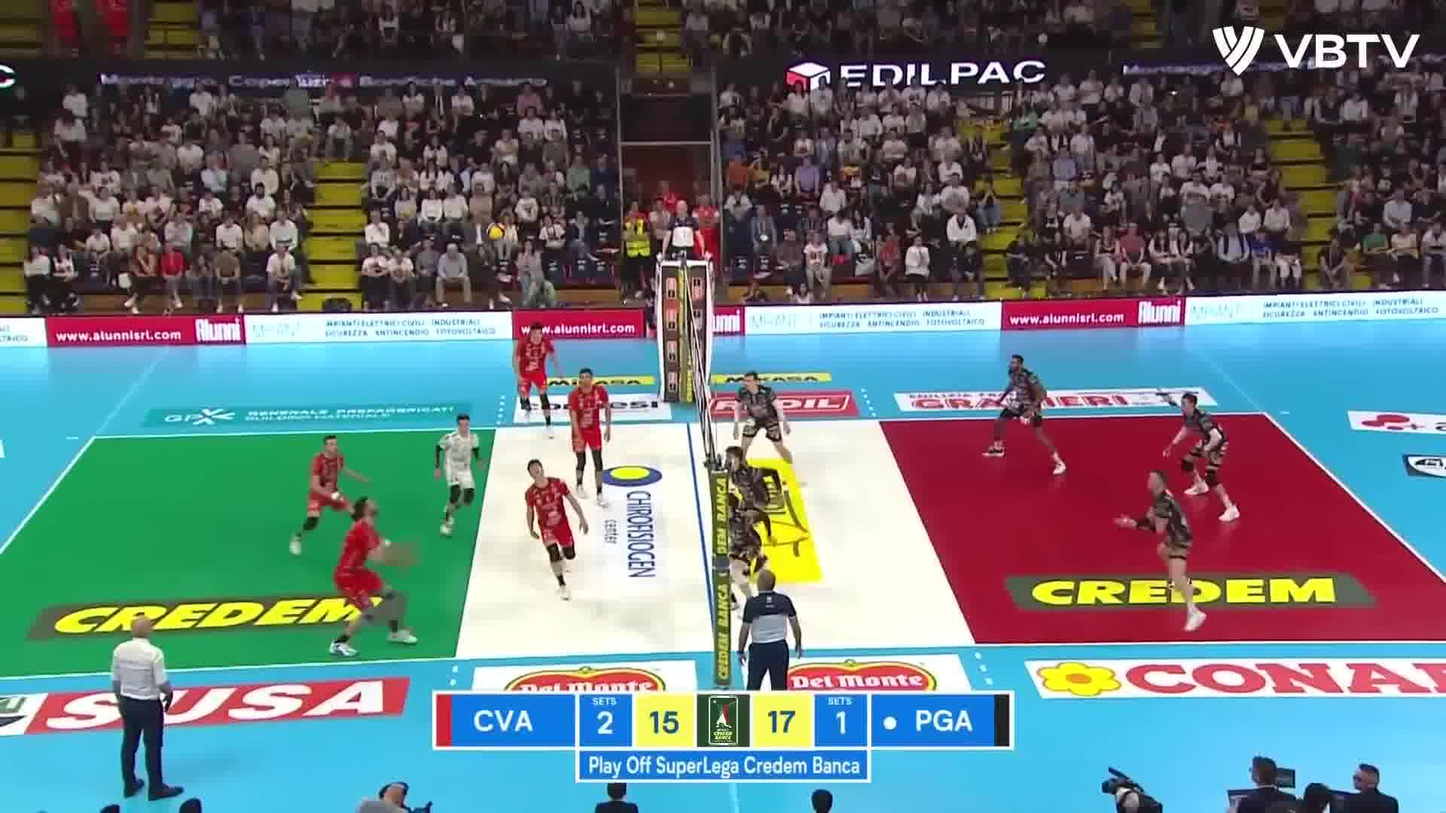balls: (484, 221, 509, 243)
